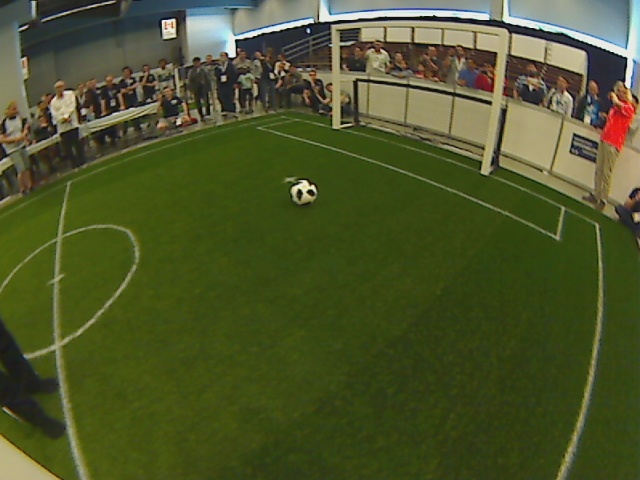ball: (288, 179, 319, 205)
